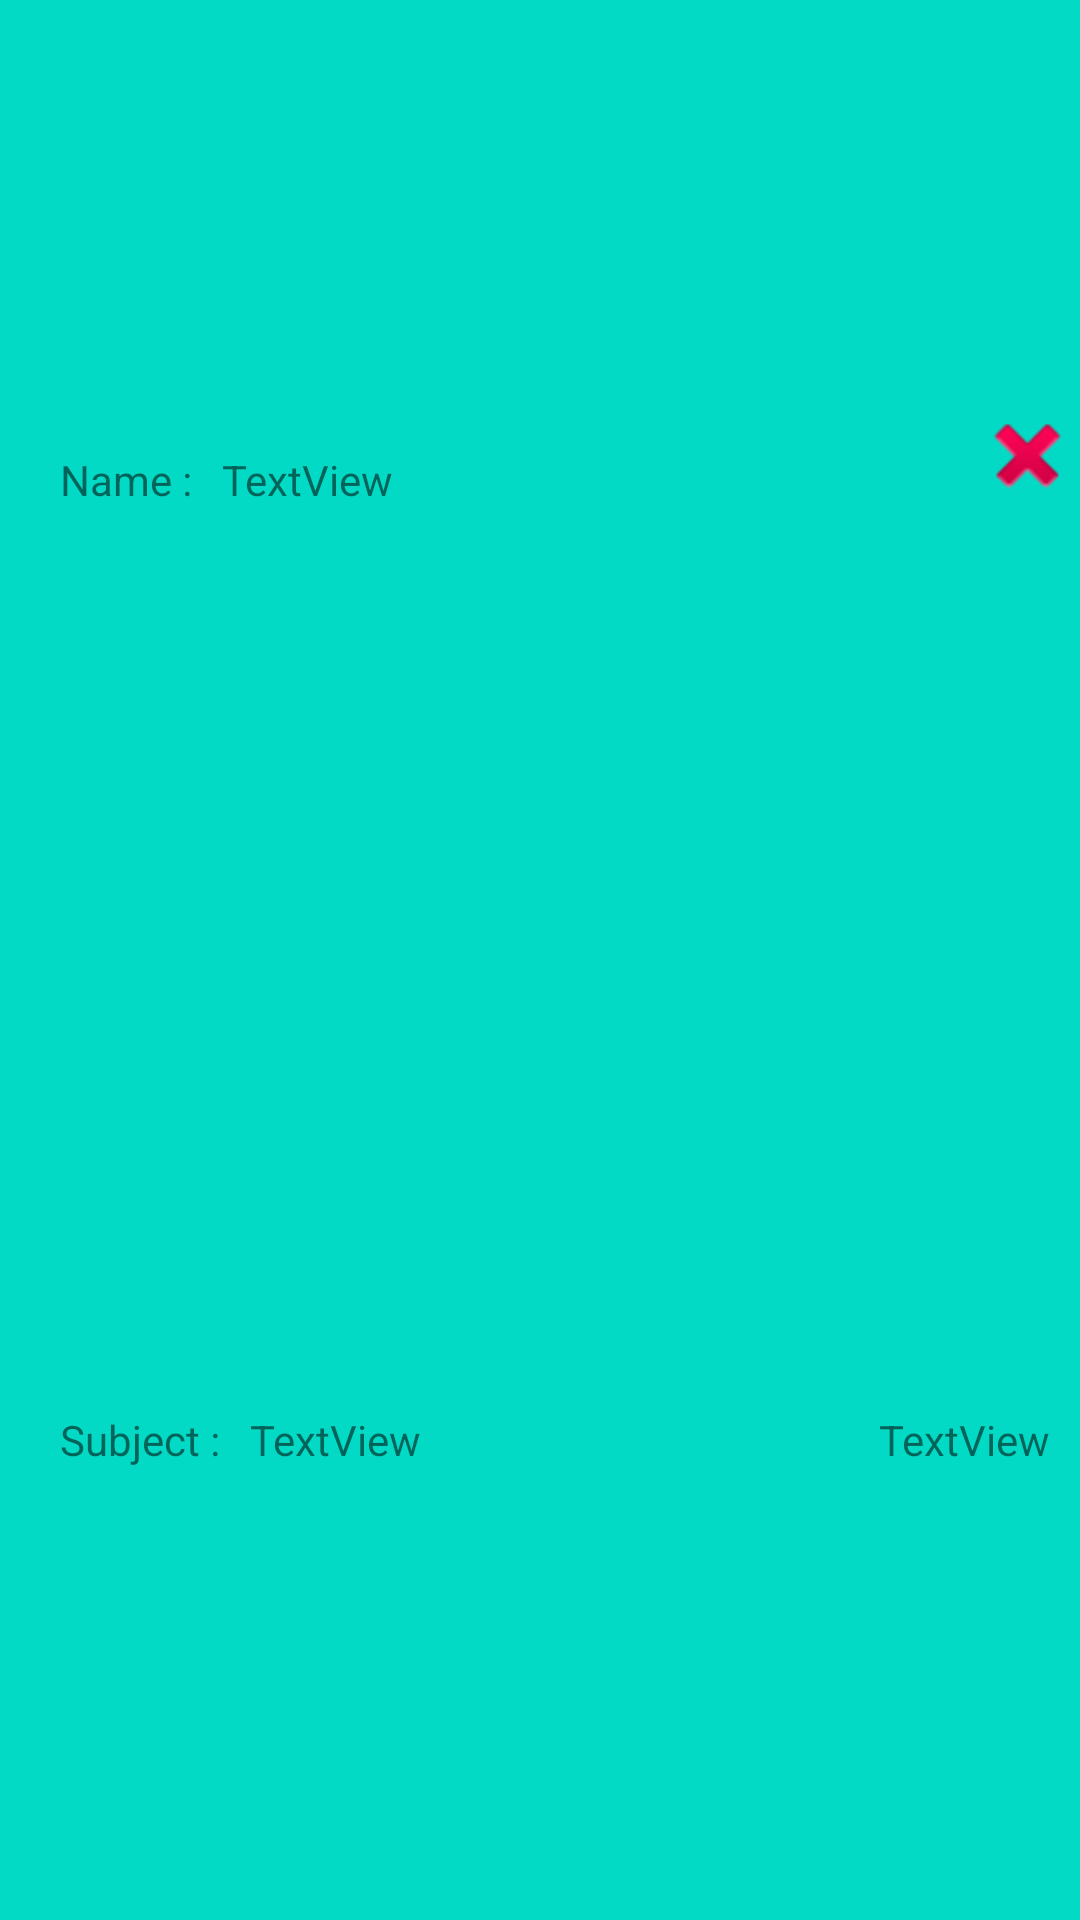

Named icons in this screenshot (1080 x 1920) and their bounding boxes, [x1,y1,x2,y2]:
delete: [994,424,1061,489]
